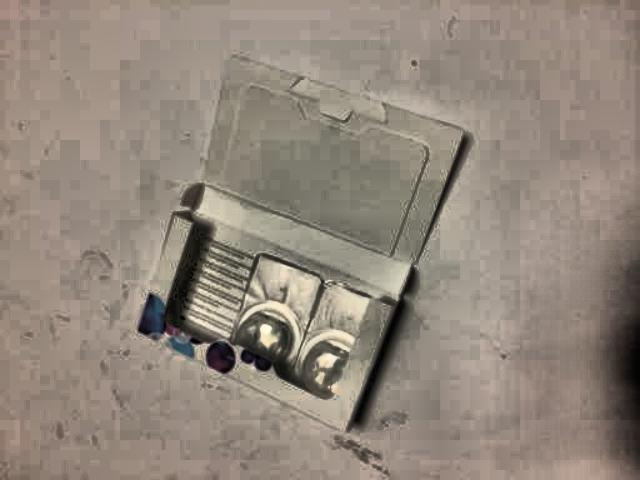Paper: (120, 43, 478, 439)
